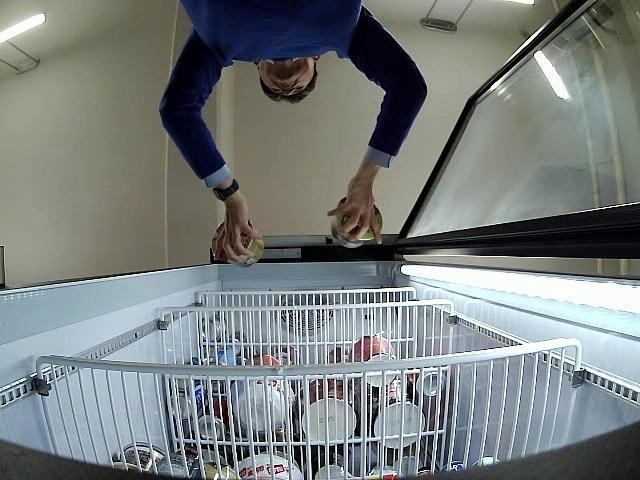03_chapagetti_L: (330, 197, 382, 248), (210, 218, 264, 267)
